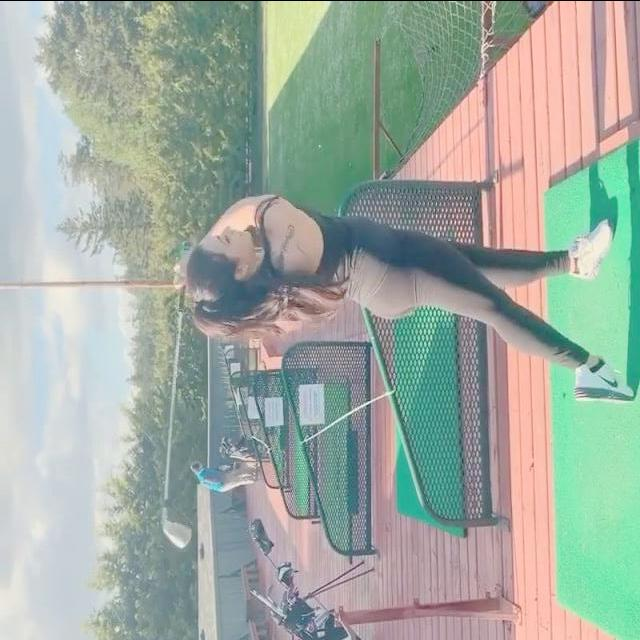golf club-handle: (161, 237, 203, 549)
golf club-head: (159, 522, 194, 548)
